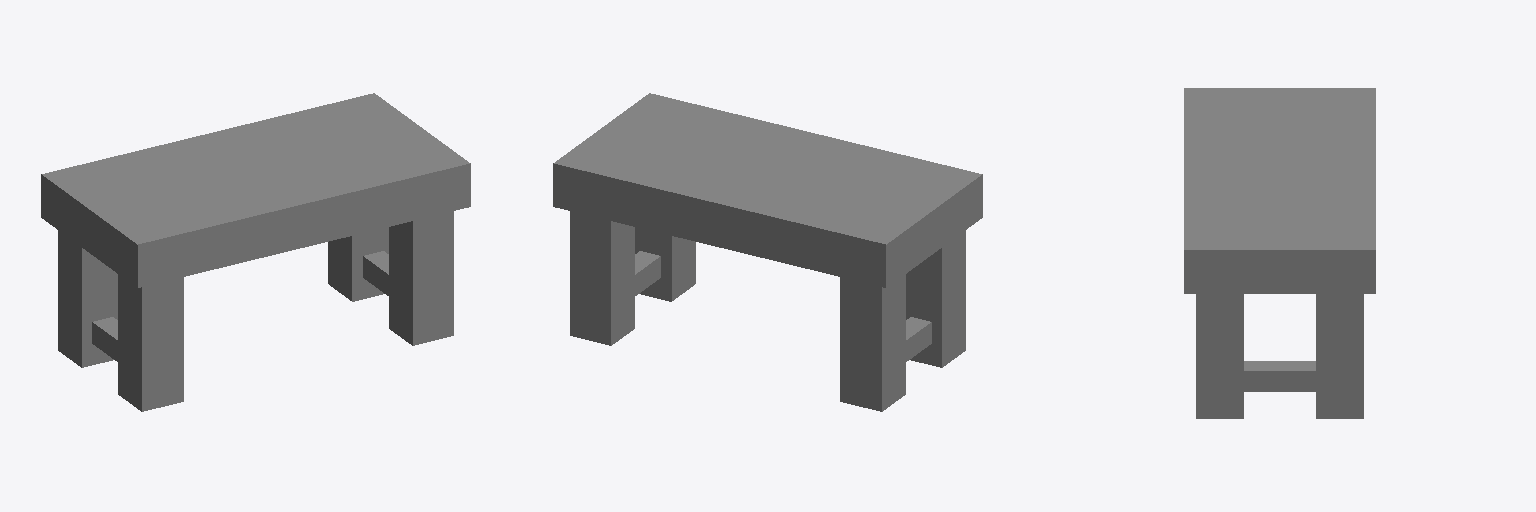
File: magic_workbench.obj
3 renders of one model, left to right at view 1: azimuth 30°, elevation 25°; view 2: azimuth 150°, elevation 25°; view 3: azimuth 270°, elevation 25°, orthographic.
Visible parts, largest first — view 1: Box001, Box002, Box003, Box005, Box004, Box007, Box006; view 2: Box001, Box005, Box004, Box002, Box003, Box007, Box006; view 3: Box001, Box004, Box003, Box007.
Part boxes in pixels (bbox=[...]): Box001: bbox=[41, 93, 470, 287]; Box002: bbox=[118, 274, 183, 411]; Box003: bbox=[389, 211, 453, 345]; Box005: bbox=[58, 230, 117, 367]; Box004: bbox=[328, 227, 388, 301]; Box007: bbox=[363, 251, 388, 295]; Box006: bbox=[92, 317, 117, 361]; Box001: bbox=[553, 93, 982, 287]; Box005: bbox=[840, 274, 905, 411]; Box004: bbox=[570, 211, 634, 345]; Box002: bbox=[906, 230, 965, 367]; Box003: bbox=[635, 227, 695, 301]; Box007: bbox=[635, 251, 660, 295]; Box006: bbox=[906, 317, 931, 361]; Box001: bbox=[1184, 88, 1375, 293]; Box004: bbox=[1316, 294, 1363, 418]; Box003: bbox=[1196, 294, 1243, 418]; Box007: bbox=[1244, 361, 1315, 391].
Size of the model in its own units: 200 by 100 by 100.